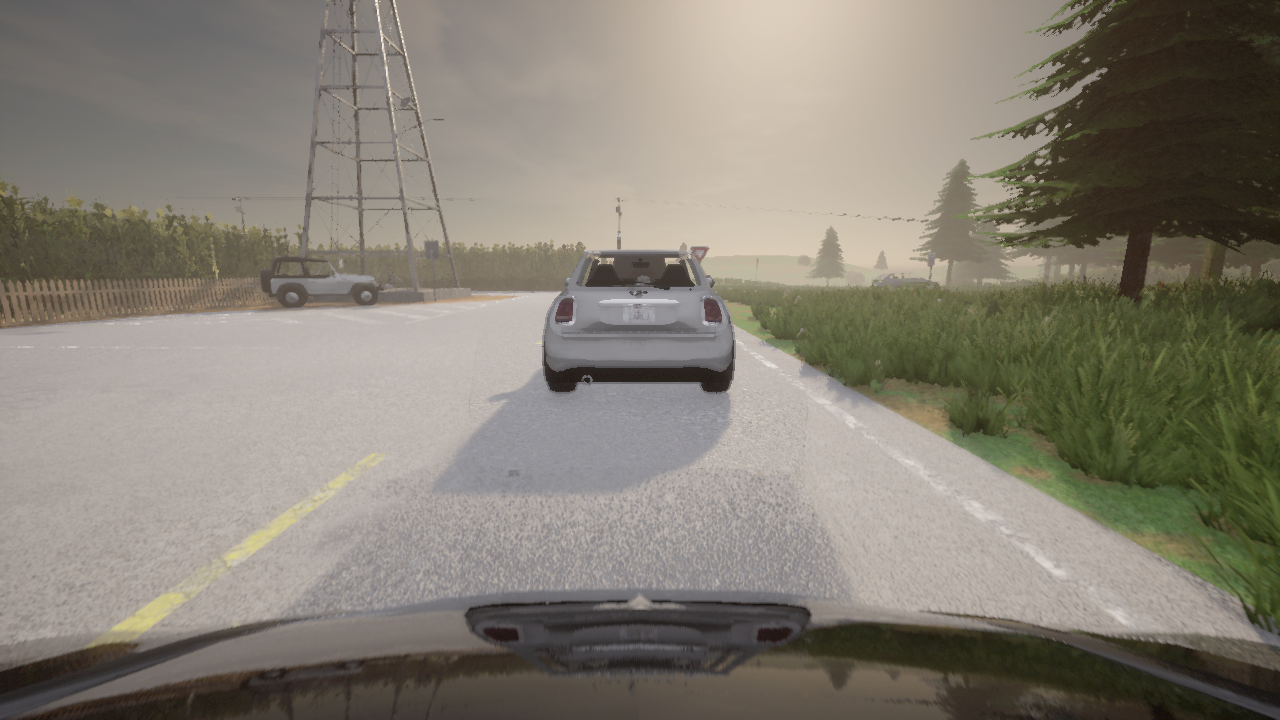cyclist: (0, 588, 1279, 719), (543, 249, 734, 392), (260, 256, 383, 307), (871, 272, 937, 289), (382, 275, 407, 287)
